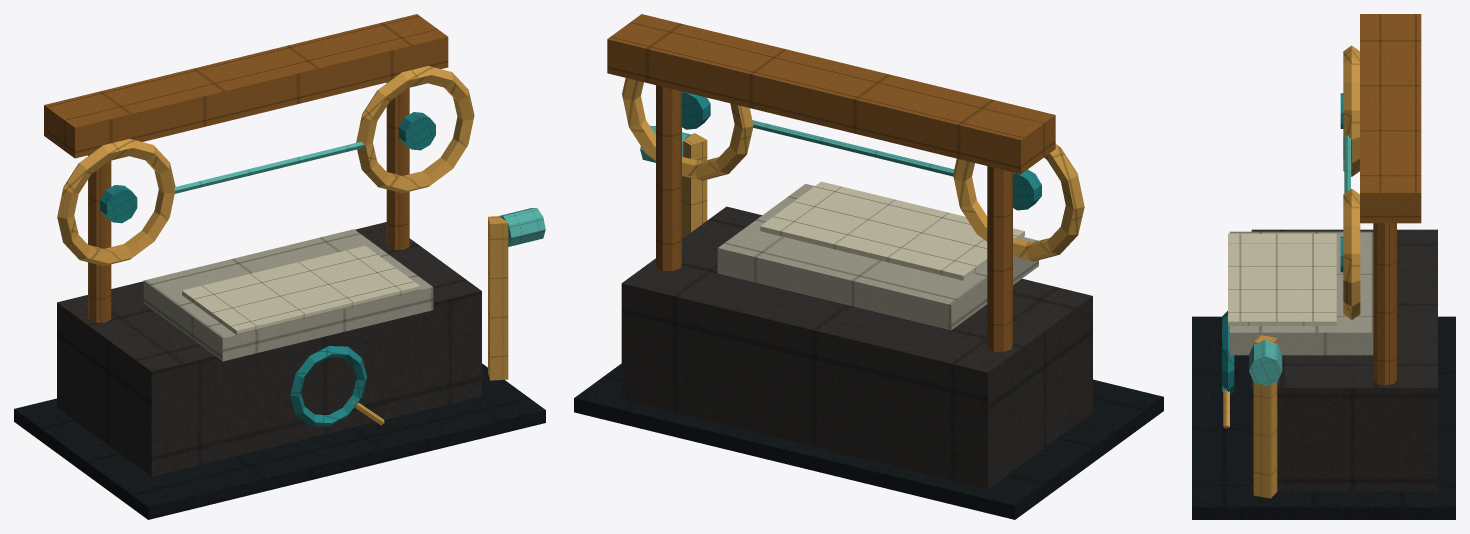
The model's file is charter-press.e10.glb.
The picture shows the model from 3 angles, left to right: view 1: azimuth 30°, elevation 25°; view 2: azimuth 150°, elevation 25°; view 3: azimuth 270°, elevation 25°; orthographic projection. The views are drawn at different scales.
Parts seen in each view (by area): view 1: CharterPressE10; view 2: CharterPressE10; view 3: CharterPressE10.
Part boxes in pixels (x1=…): CharterPressE10: x1=14, y1=14, x2=545, y2=519; CharterPressE10: x1=574, y1=14, x2=1163, y2=519; CharterPressE10: x1=1192, y1=14, x2=1455, y2=519.
Size of the model in its own units: 3.57 by 2.55 by 1.9.
1 material, 1 textured.
